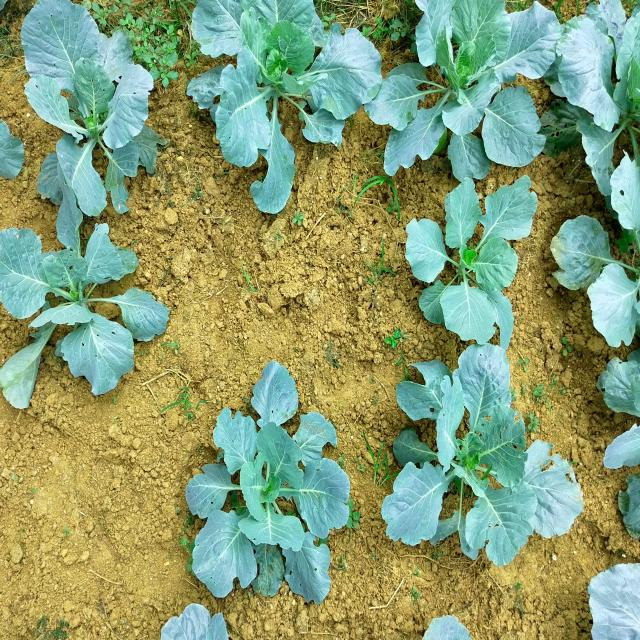Cabbage: (380, 339, 585, 600), (171, 348, 354, 600), (171, 0, 367, 220), (0, 0, 171, 222), (0, 219, 172, 409), (379, 0, 553, 167), (404, 176, 543, 346), (565, 0, 640, 226), (601, 297, 640, 537)
